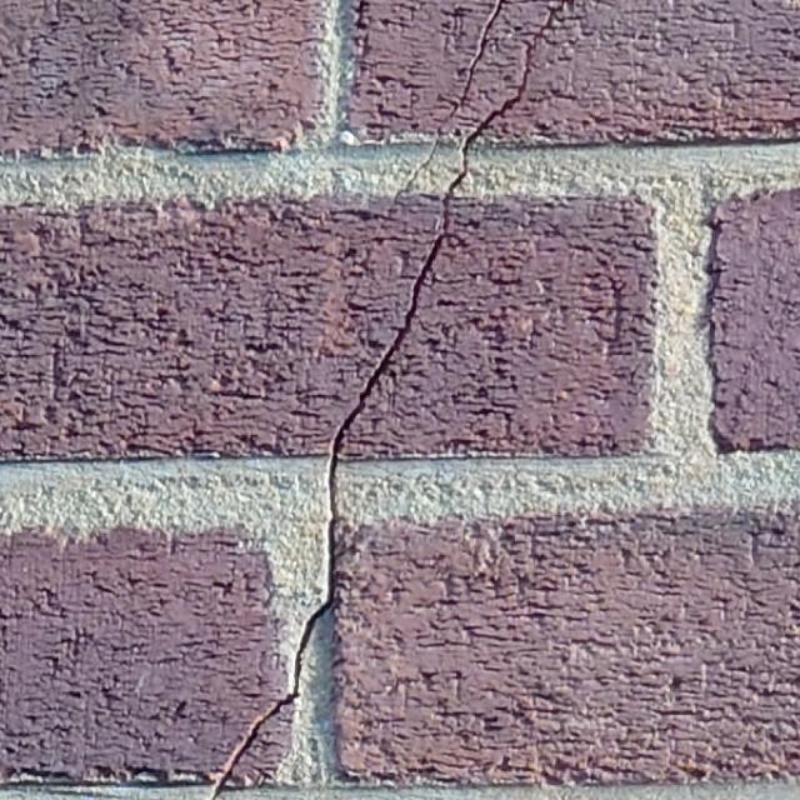pothole: (207, 0, 568, 800), (452, 0, 505, 114), (394, 129, 440, 197)
